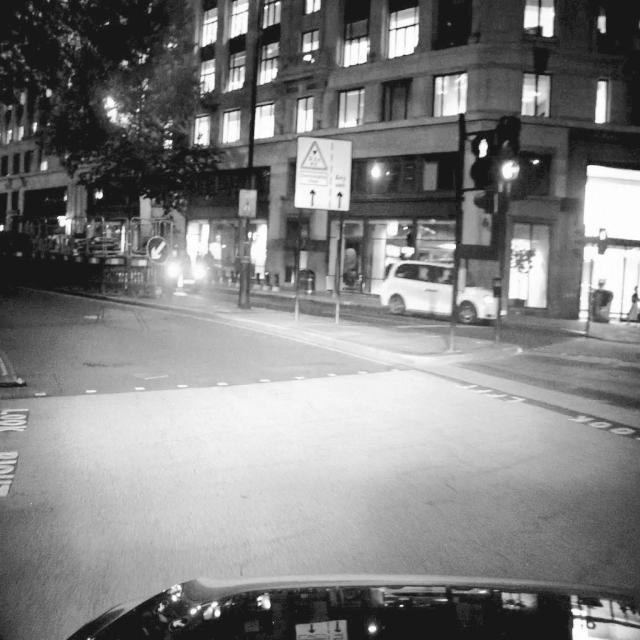Light: (496, 115, 520, 183), (470, 132, 496, 187)
Sign: (294, 137, 352, 211), (146, 237, 171, 265)
